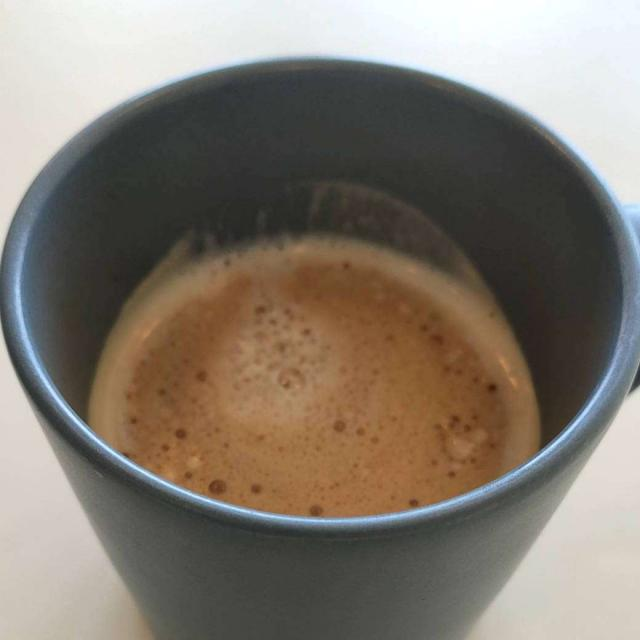coffee-with-caffeine: (94, 214, 528, 511)
